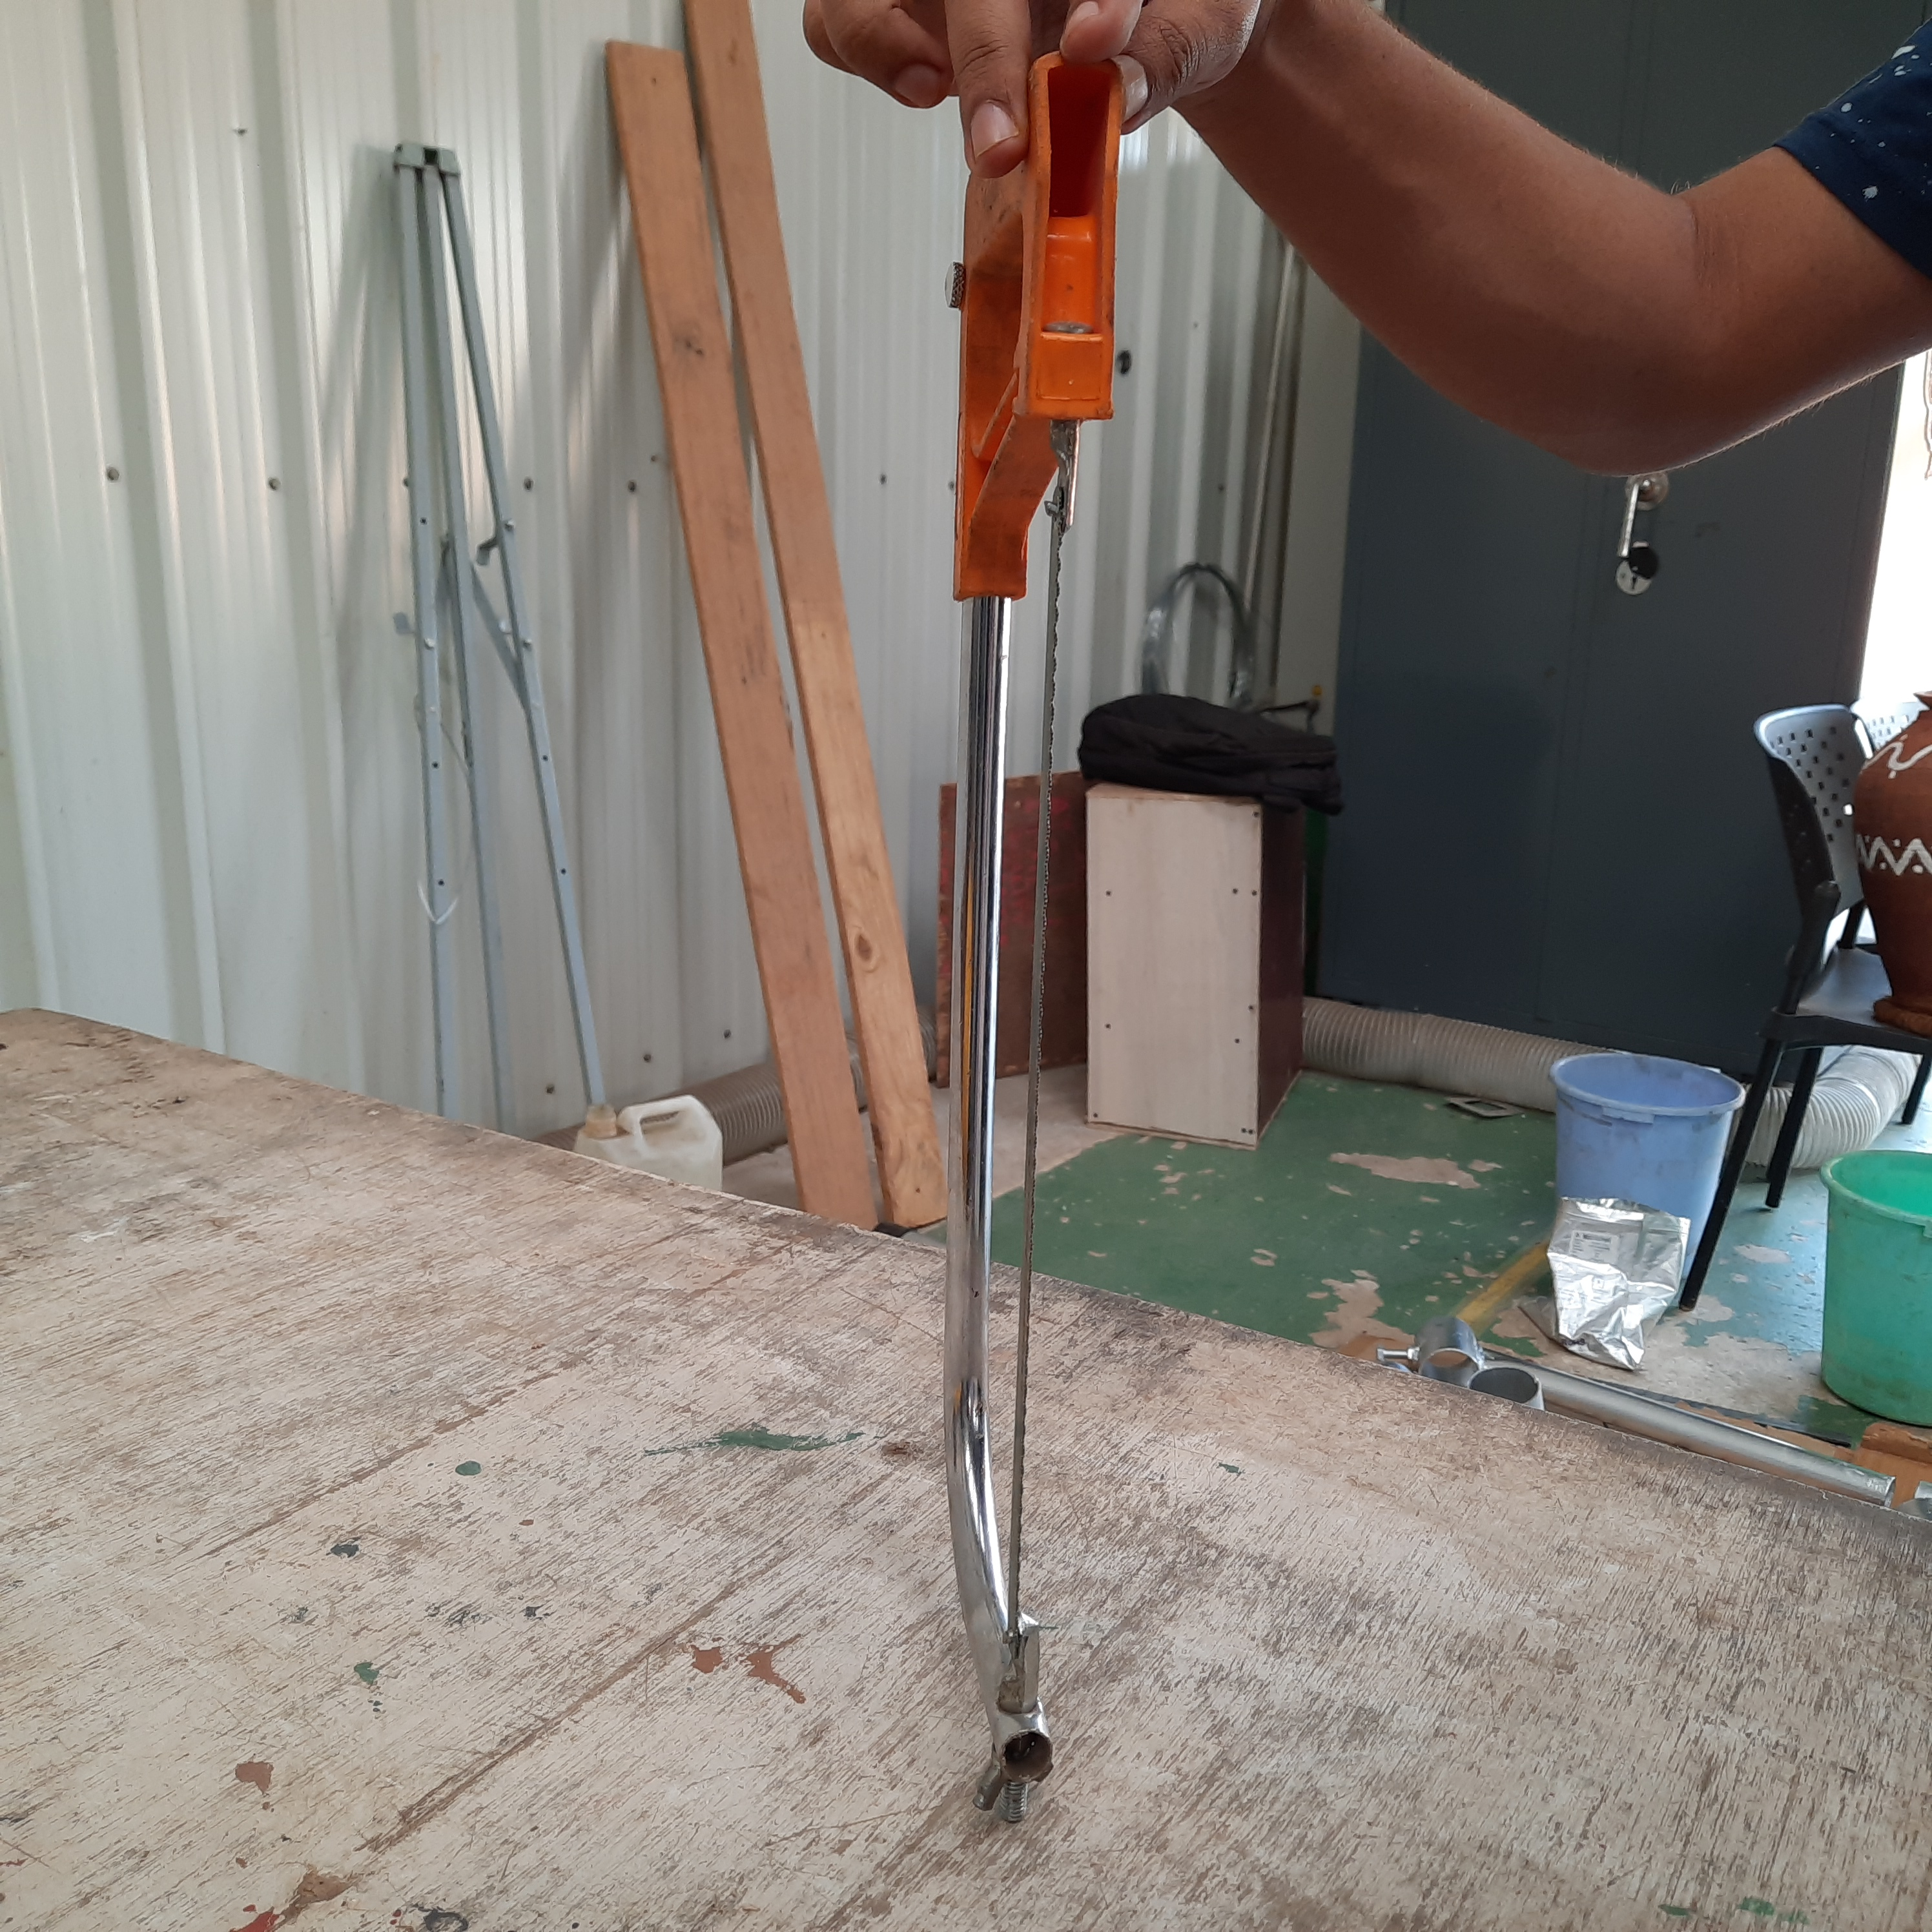Hexaframe: (913, 19, 1138, 1824)
